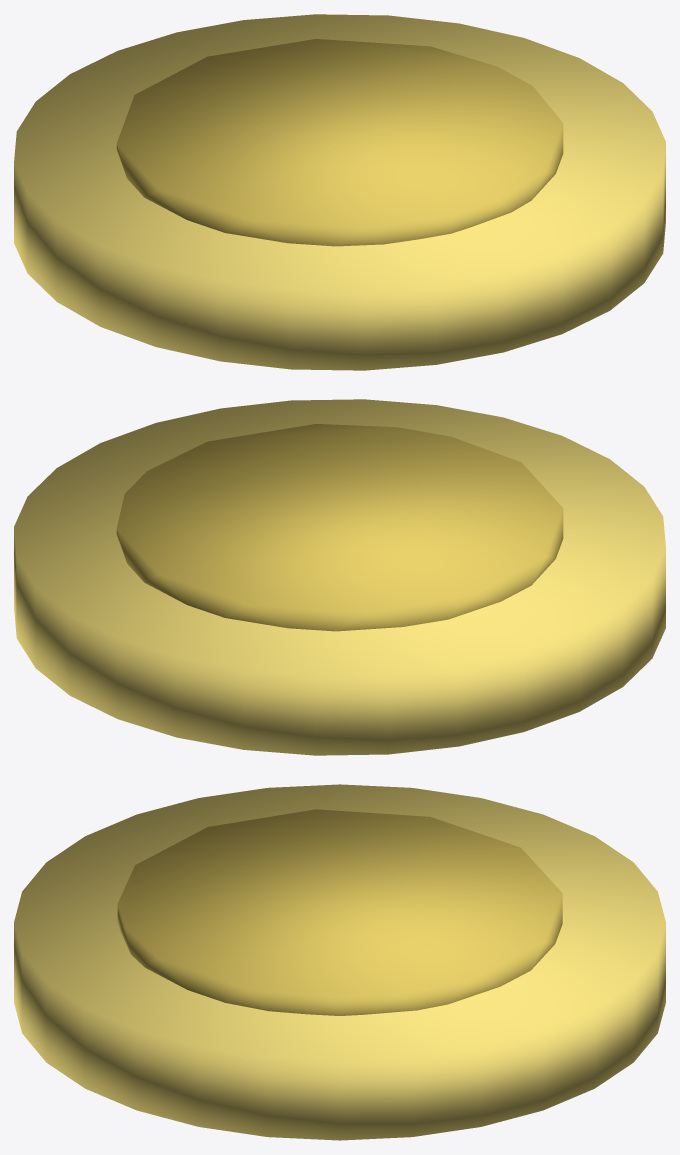
File: item_coin.glb
3 views of the same model, one above another, from view 1: azimuth 30°, elevation 25°; view 2: azimuth 150°, elevation 25°; view 3: azimuth 270°, elevation 25° (orthographic).
Visible parts, largest first — view 1: item_coin; view 2: item_coin; view 3: item_coin.
Part boxes in pixels (<box>): item_coin: <box>14,14,665,370</box>; item_coin: <box>14,399,665,755</box>; item_coin: <box>14,784,665,1140</box>.
Size of the model in its own units: 0.22 by 0.037 by 0.22.
